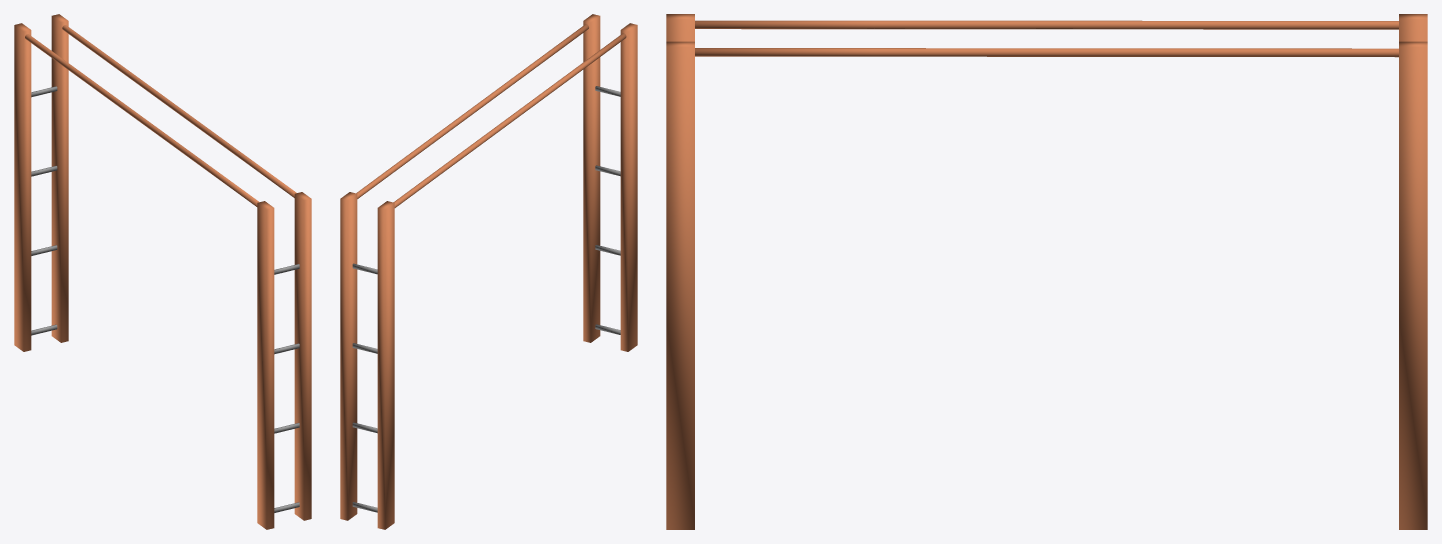
File: shelves.gltf
3 views of the same model, side by side, from view 1: azimuth 30°, elevation 25°; view 2: azimuth 150°, elevation 25°; view 3: azimuth 270°, elevation 25° (orthographic). The views are drawn at different scales.
Parts seen in each view (by area): view 1: Box1174, Box1267, Box012, Box1266, Cylinder095, Cylinder003; view 2: Box1267, Box1174, Box1266, Box012, Cylinder095, Cylinder003; view 3: Box012, Box1266, Cylinder095, Cylinder003.
Boxes of the visible parts, x1,y1,x2,y2 form: Box1174: [257, 201, 274, 529]; Box1267: [14, 23, 31, 351]; Box012: [294, 192, 311, 520]; Box1266: [51, 14, 68, 342]; Cylinder095: [25, 34, 259, 206]; Cylinder003: [62, 25, 296, 197]; Box1267: [377, 201, 394, 529]; Box1174: [620, 23, 637, 351]; Box1266: [340, 192, 357, 520]; Box012: [583, 14, 600, 342]; Cylinder095: [393, 33, 626, 207]; Cylinder003: [356, 24, 588, 198]; Box012: [666, 41, 694, 529]; Box1266: [1399, 41, 1427, 529]; Cylinder095: [695, 20, 1398, 29]; Cylinder003: [695, 48, 1398, 57].
Size of the model in its own units: 543 by 3693 by 5278.
Materials: 2 (2 with a texture image).
